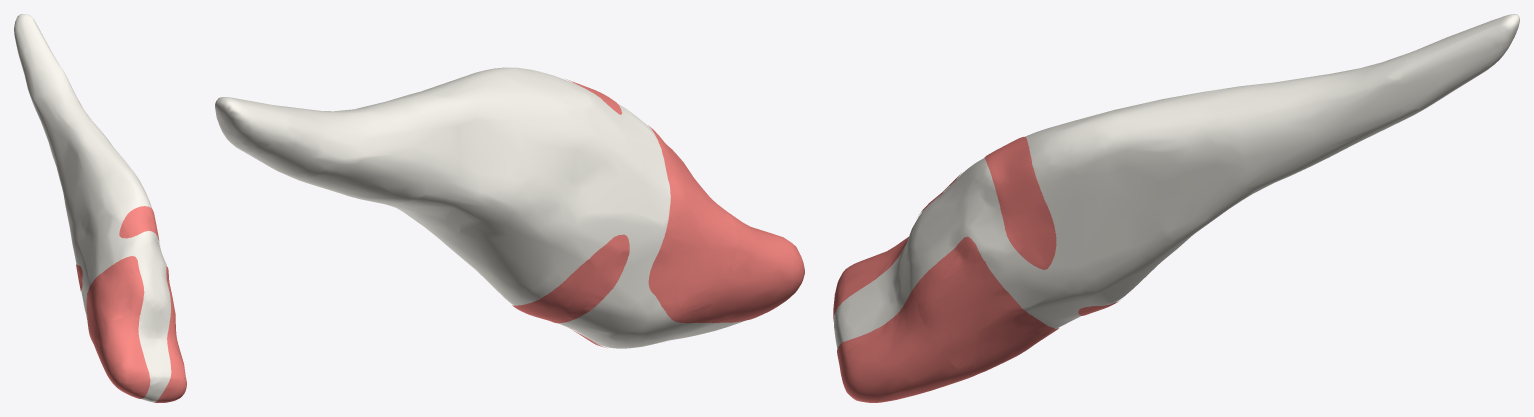
Rendered from tooth_42_FMA57140.glb.
The picture shows the model from 3 angles, left to right: view 1: azimuth 30°, elevation 25°; view 2: azimuth 150°, elevation 25°; view 3: azimuth 270°, elevation 25°; orthographic projection. The views are drawn at different scales.
Visible parts, largest first — view 1: tooth_42, class4_distal, class3_distal, class4_mesial, class5_lingual; view 2: tooth_42, class4_distal, class3_distal, class5_facial; view 3: tooth_42, class4_mesial, class3_mesial, class5_lingual, class4_distal.
Part boxes in pixels (left/top/right/bottom): tooth_42: left=14, top=14, right=171, bottom=402; class4_distal: left=86, top=256, right=150, bottom=398; class3_distal: left=87, top=261, right=137, bottom=345; class4_mesial: left=154, top=266, right=186, bottom=402; class5_lingual: left=119, top=206, right=159, bottom=240; tooth_42: left=215, top=67, right=743, bottom=348; class4_distal: left=648, top=125, right=804, bottom=323; class3_distal: left=655, top=132, right=737, bottom=311; class5_facial: left=512, top=234, right=629, bottom=323; tooth_42: left=834, top=14, right=1519, bottom=348; class4_mesial: left=837, top=236, right=1058, bottom=402; class3_mesial: left=918, top=248, right=1051, bottom=375; class5_lingual: left=984, top=137, right=1056, bottom=269; class4_distal: left=833, top=173, right=961, bottom=321.
Size of the model in its own units: 7.48 by 15.95 by 23.78.
